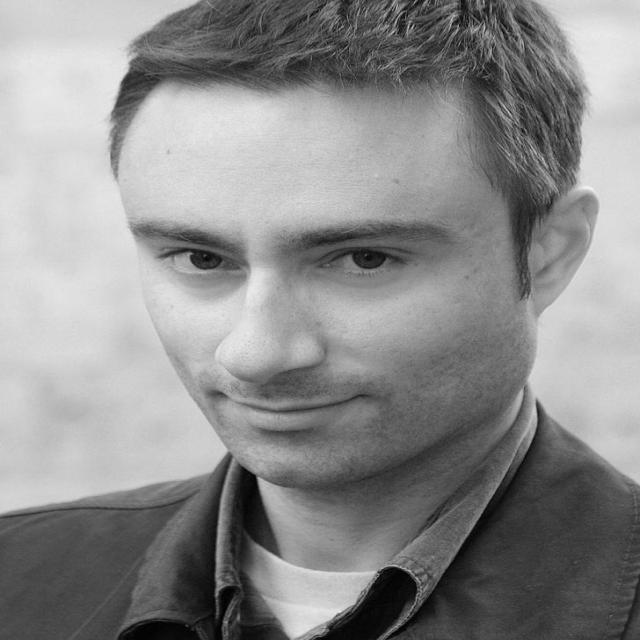no-glass: (160, 247, 403, 273)
